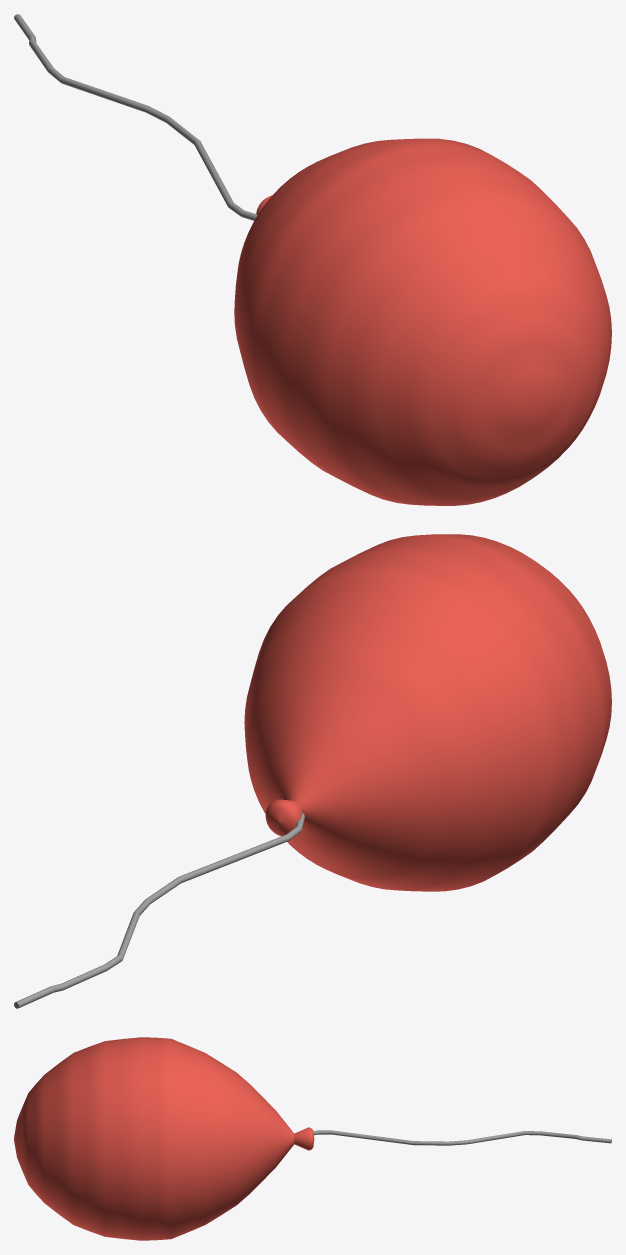
The model's file is Balloon1.obj.
3 views of the same model, one above another, from view 1: azimuth 30°, elevation 25°; view 2: azimuth 150°, elevation 25°; view 3: azimuth 270°, elevation 25° (orthographic). The views are drawn at different scales.
Visible parts, largest first — view 1: s0000.5759, s0002.3895; view 2: s0000.5759, s0002.3895, s0001.2385; view 3: s0000.5759, s0002.3895, s0001.2385.
Part boxes in pixels (x1=…): s0000.5759: x1=234, y1=138, x2=611, y2=505; s0002.3895: x1=14, y1=14, x2=257, y2=220; s0000.5759: x1=244, y1=534, x2=611, y2=891; s0002.3895: x1=14, y1=813, x2=304, y2=1008; s0001.2385: x1=265, y1=799, x2=303, y2=836; s0000.5759: x1=14, y1=1037, x2=294, y2=1240; s0002.3895: x1=313, y1=1130, x2=611, y2=1145; s0001.2385: x1=294, y1=1127, x2=314, y2=1150.
Size of the model in its own units: 1.21 by 1.21 by 3.54.
